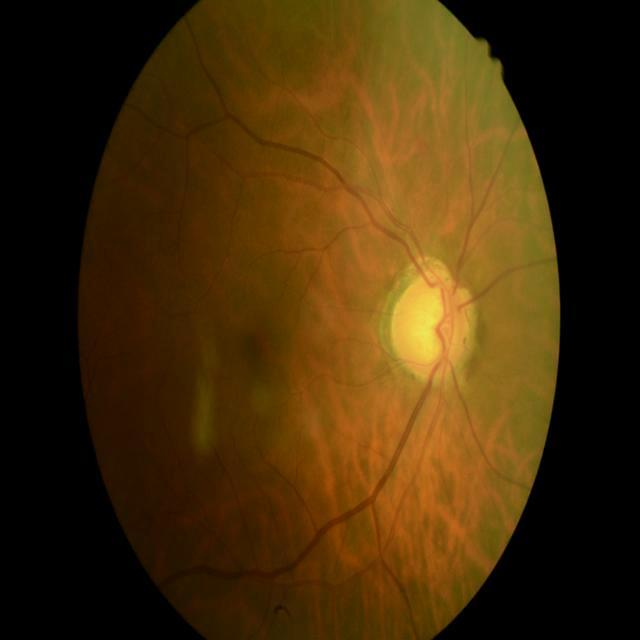cup: (404, 283, 456, 365)
disk: (391, 267, 473, 382)
